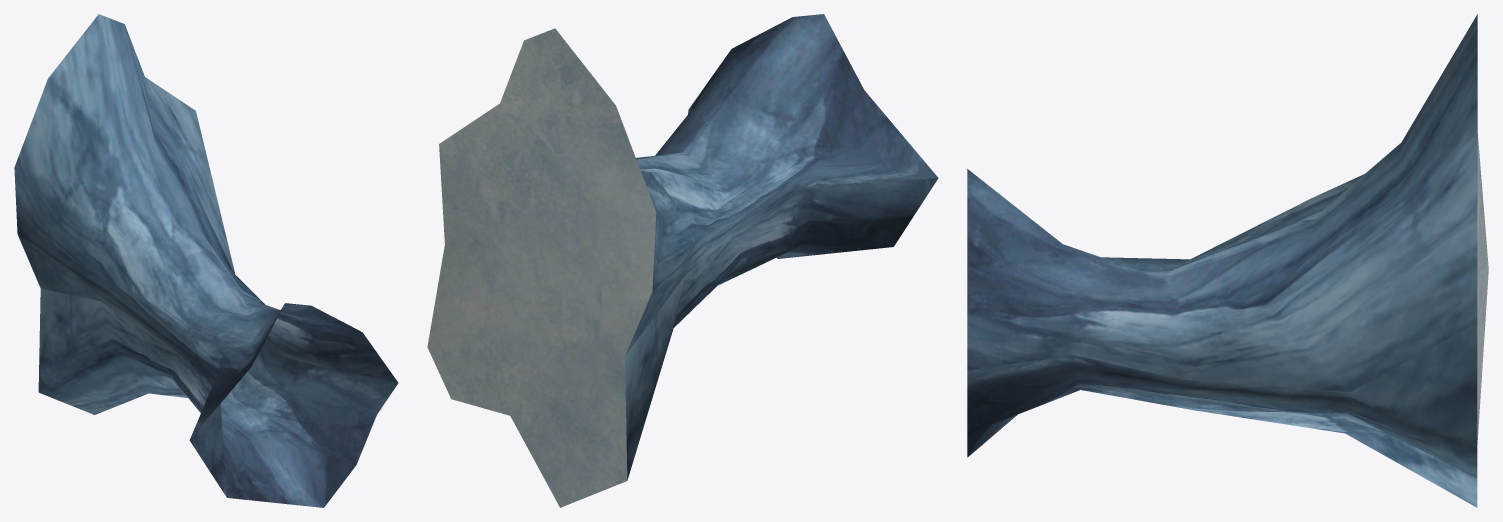
The picture shows the model from 3 angles, left to right: view 1: azimuth 30°, elevation 25°; view 2: azimuth 150°, elevation 25°; view 3: azimuth 270°, elevation 25°; orthographic projection. The views are drawn at different scales.
Parts seen in each view (by area): view 1: Object11; view 2: Object11; view 3: Object11.
Part boxes in pixels (bbox=[...]): Object11: bbox=[14, 14, 398, 507]; Object11: bbox=[427, 14, 938, 507]; Object11: bbox=[967, 14, 1488, 507].
Size of the model in its own units: 29582 by 50977 by 48543.
